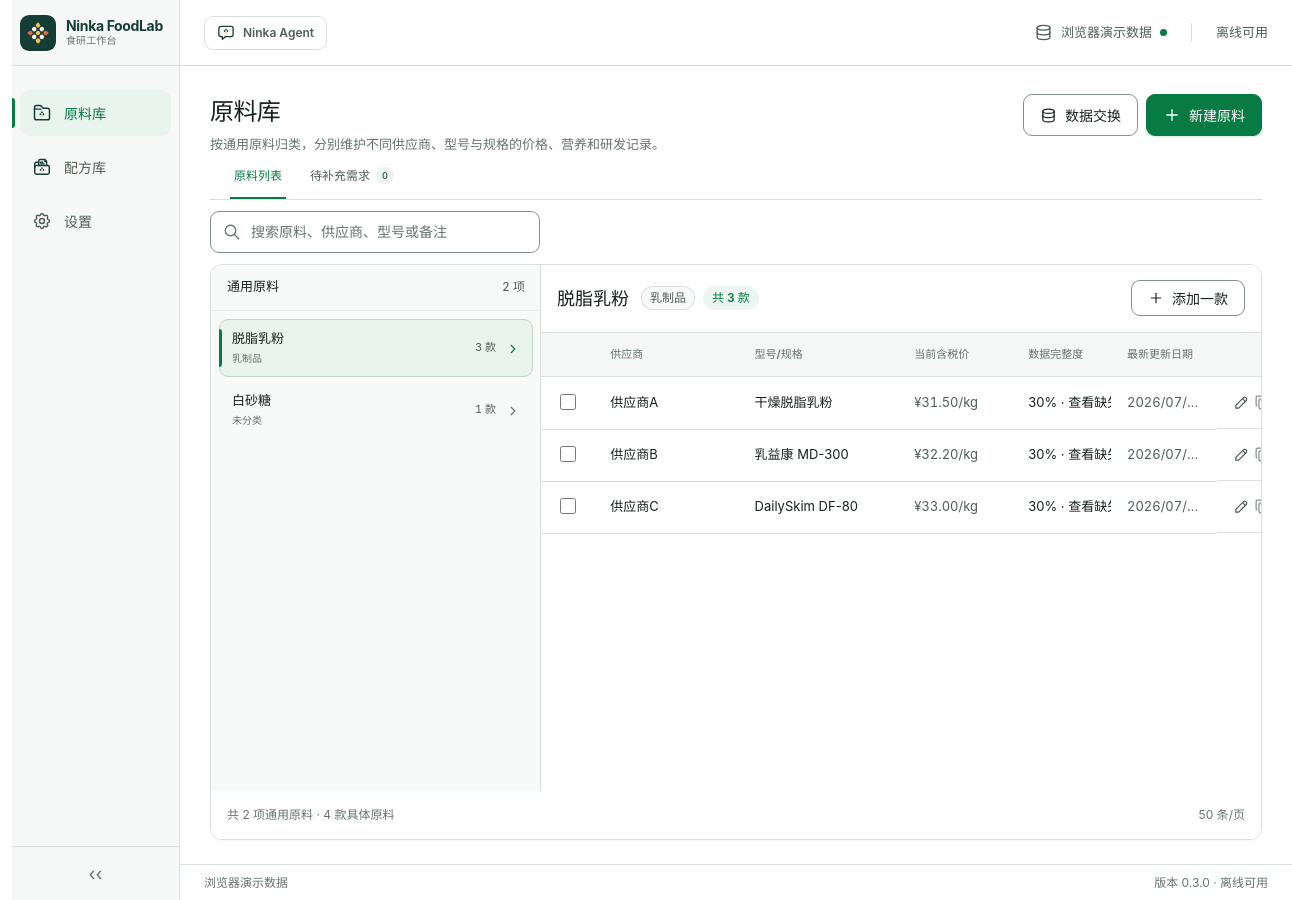
Test: ingredient library supplier hierarchy › selects a common material to show its supplier-specific rows
Expected: the button with aria-label "查看 脱脂乳粉 的具体原料" is shown, [219,318,533,376]
Click the button with aria-label "查看 白砂糖 的具体原料": (252, 400) [219,380,533,438]
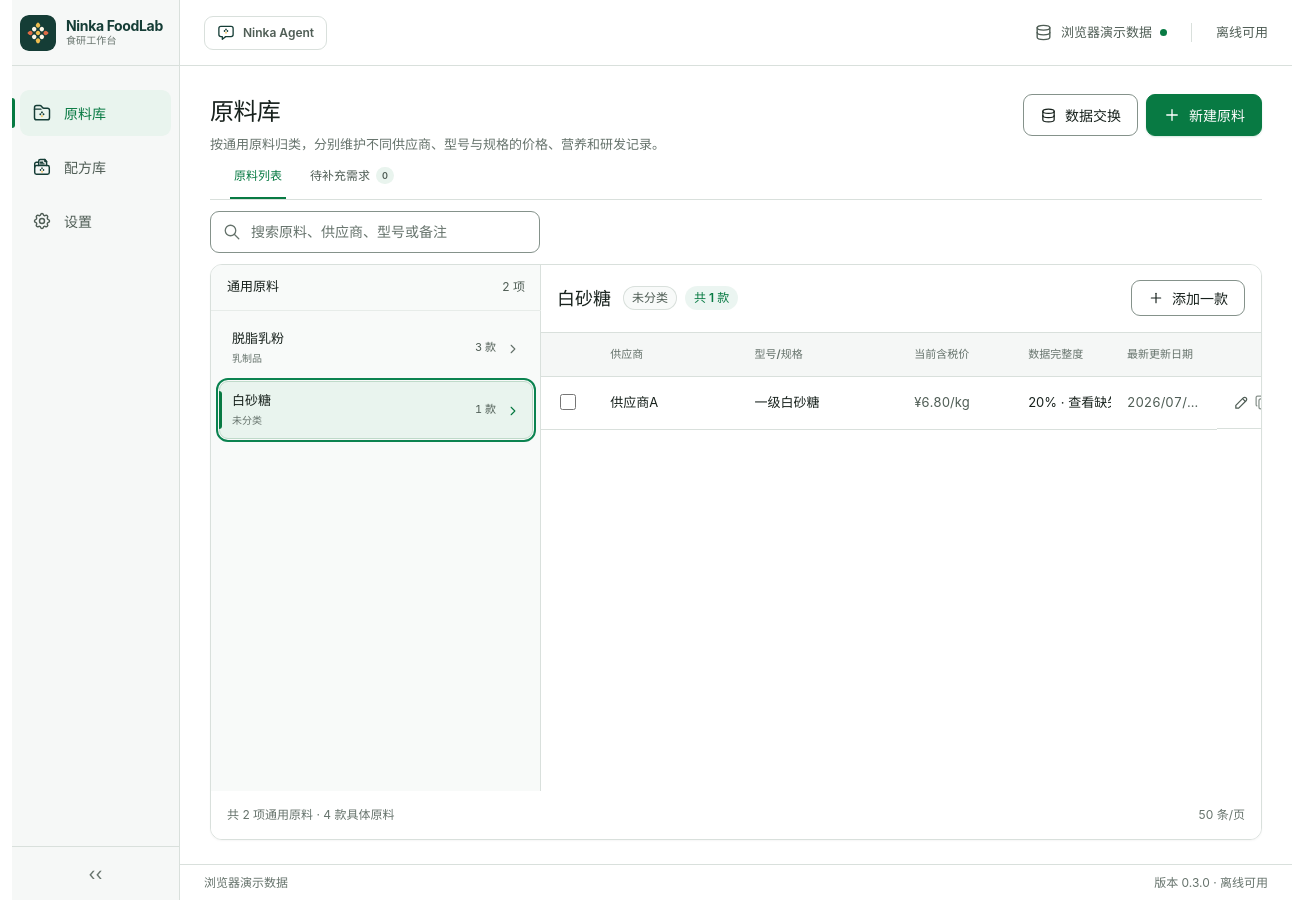
Expected: the text "乳益康 MD-300" is gone
Click the button with aria-label "查看 脱脂乳粉 的具体原料": (258, 338) [219,318,533,376]
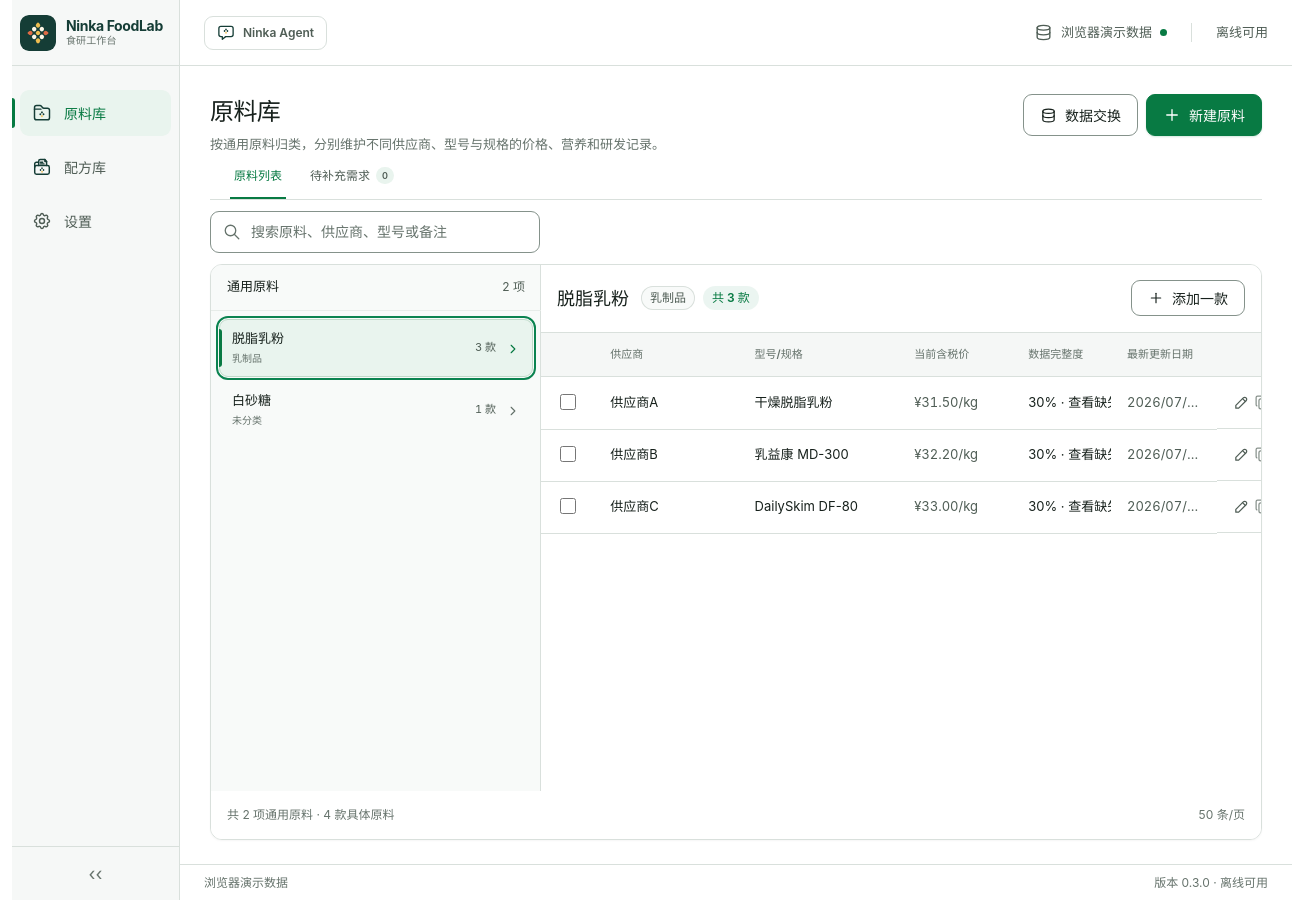
Expected: the text "供应商B" is shown, [610,446,658,462]
Expected: the text "供应商C" is shown, [610,498,659,514]
Expected: the text "共 3 款" is shown, [703,286,759,310]
